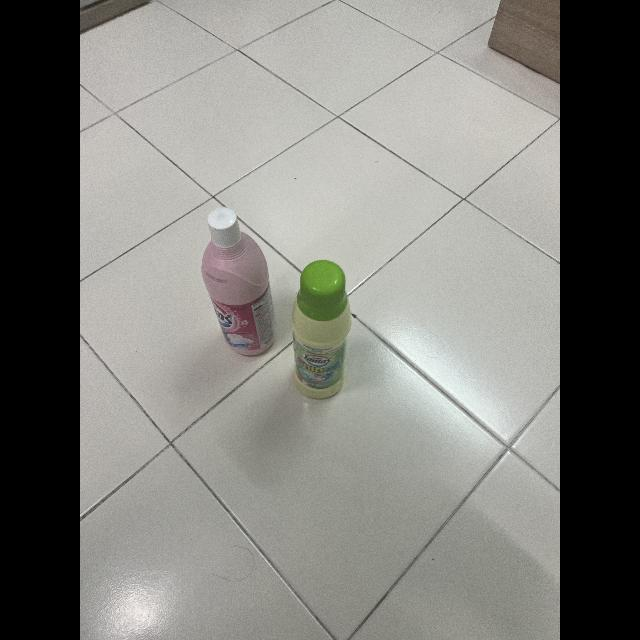chemical_plastic_bottle: (196, 206, 278, 360), (290, 256, 352, 400)
